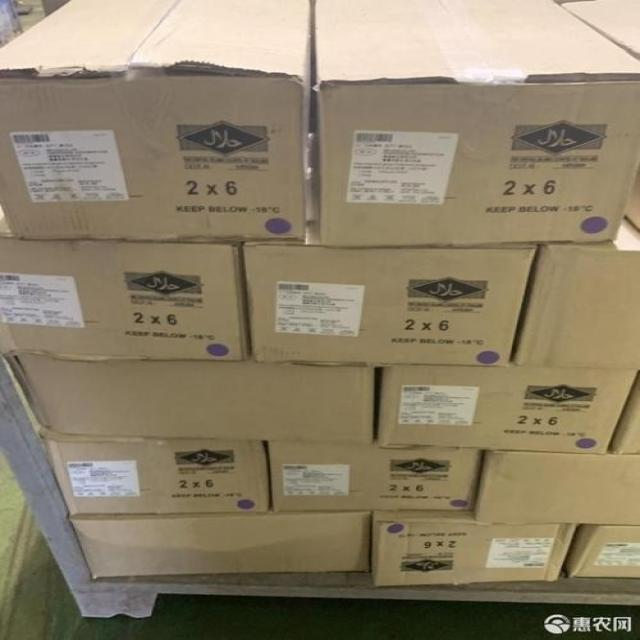box: (1, 1, 313, 247), (246, 132, 539, 364), (3, 211, 250, 361), (11, 357, 374, 443), (512, 178, 639, 370), (377, 364, 639, 452), (70, 514, 372, 582), (46, 436, 272, 517), (263, 442, 484, 513), (372, 513, 578, 587), (472, 445, 638, 526), (557, 0, 638, 57), (562, 526, 639, 579), (607, 372, 639, 453), (14, 3, 70, 32)
